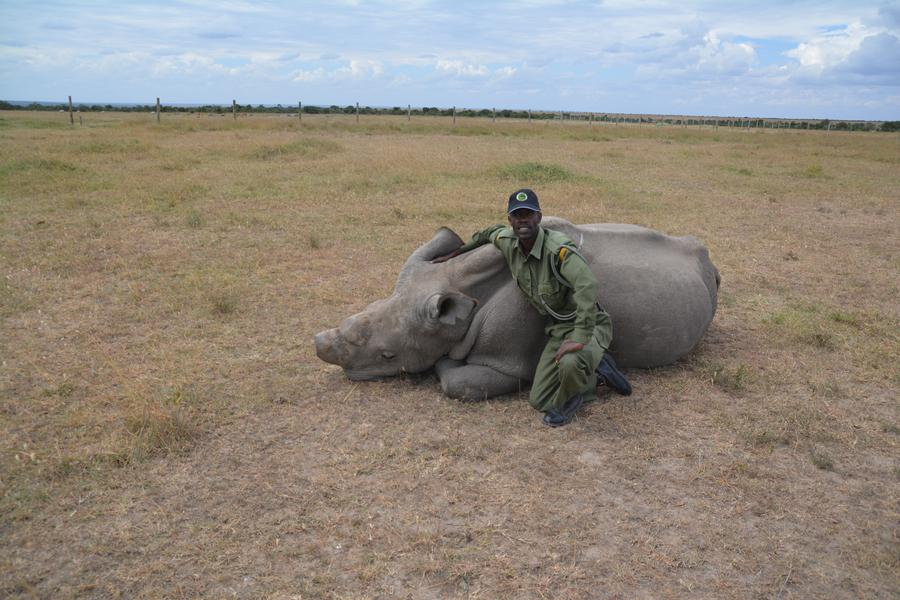rhino: (308, 187, 732, 388)
